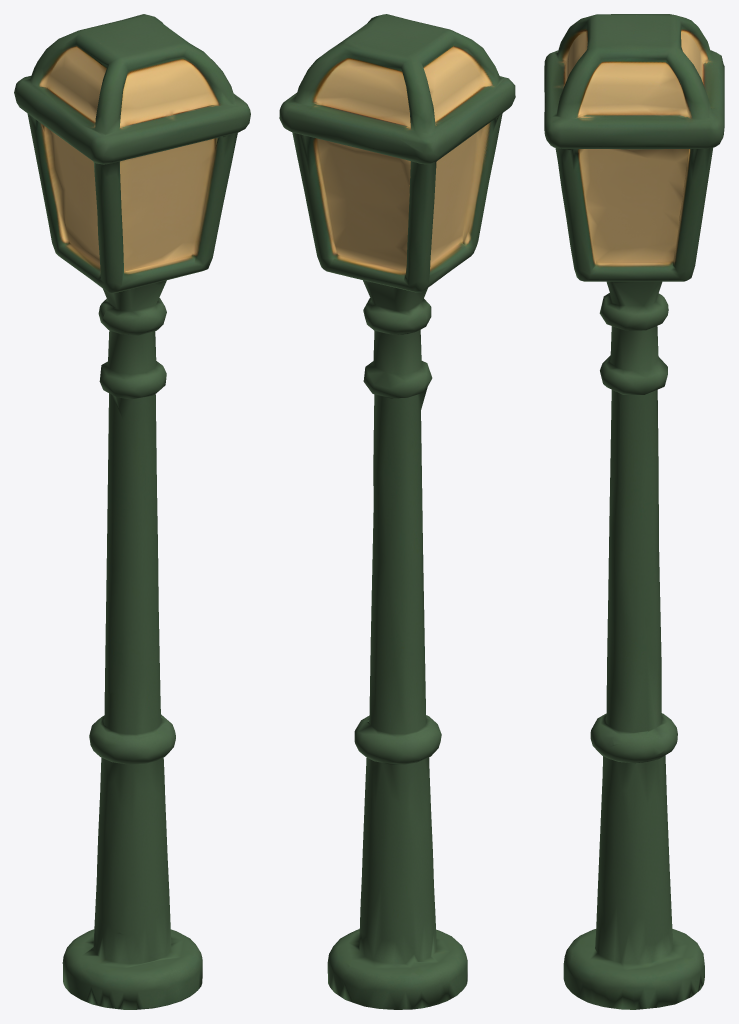
Rendered from lamp.glb.
3 views of the same model, side by side, from view 1: azimuth 30°, elevation 25°; view 2: azimuth 150°, elevation 25°; view 3: azimuth 270°, elevation 25° (orthographic).
Visible parts, largest first — view 1: tripo_node_fcb3af2a-37d3-458c-ad89-759359b408e2; view 2: tripo_node_fcb3af2a-37d3-458c-ad89-759359b408e2; view 3: tripo_node_fcb3af2a-37d3-458c-ad89-759359b408e2.
Boxes of the visible parts, x1,y1,x2,y2 form: tripo_node_fcb3af2a-37d3-458c-ad89-759359b408e2: (14, 14, 250, 1009); tripo_node_fcb3af2a-37d3-458c-ad89-759359b408e2: (279, 14, 515, 1009); tripo_node_fcb3af2a-37d3-458c-ad89-759359b408e2: (544, 14, 724, 1009).
Bounding box in the file's own units: 0.1758 × 1 × 0.1724.
1 material, 1 textured.
